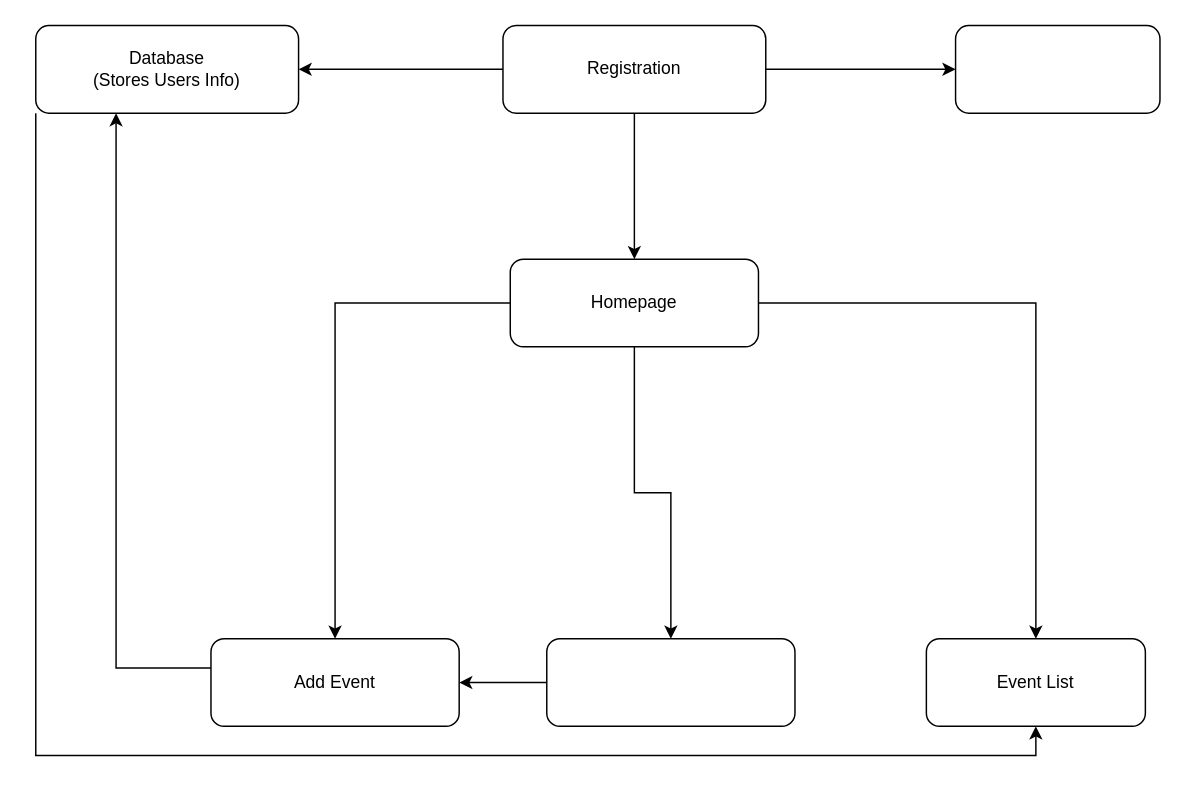
Some shapes in this 1186 by 793 pixel diagram are drawn without their labels. The shapes that lost their labels are listed below. From the top down, each one's centre as x and y in pixels, then its label:
At (1057,68): "Invalid Login Information".
At (670,681): "Search Event".
